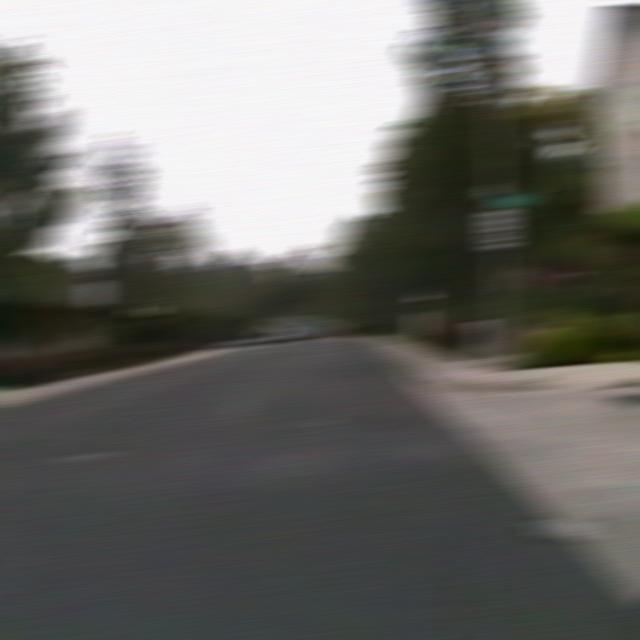speedLimit25: (479, 207, 518, 249)
